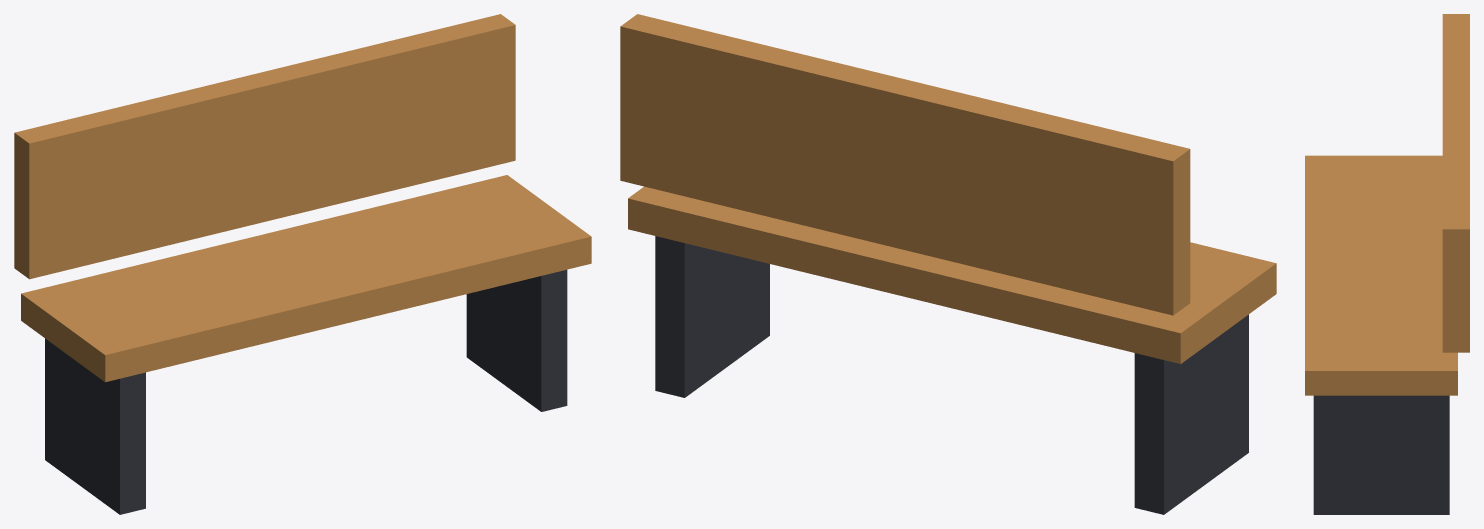
The model's file is visitor_bench.glb.
The picture shows the model from 3 angles, left to right: view 1: azimuth 30°, elevation 25°; view 2: azimuth 150°, elevation 25°; view 3: azimuth 270°, elevation 25°; orthographic projection. The views are drawn at different scales.
Parts seen in each view (by area): view 1: visitor_bench; view 2: visitor_bench; view 3: visitor_bench.
Part boxes in pixels (x1,y1,x2,y2): visitor_bench: (14, 14, 591, 514); visitor_bench: (620, 14, 1276, 514); visitor_bench: (1305, 14, 1469, 514).
Bounding box in the file's own units: 1.5 × 0.955 × 0.485.
